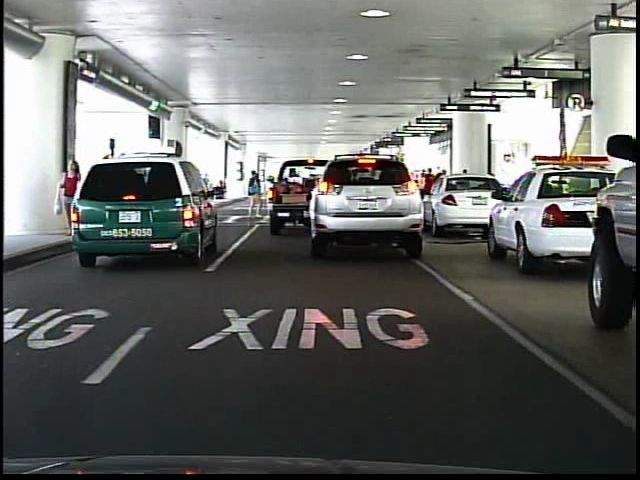person: (54, 155, 88, 243), (242, 168, 266, 224)
